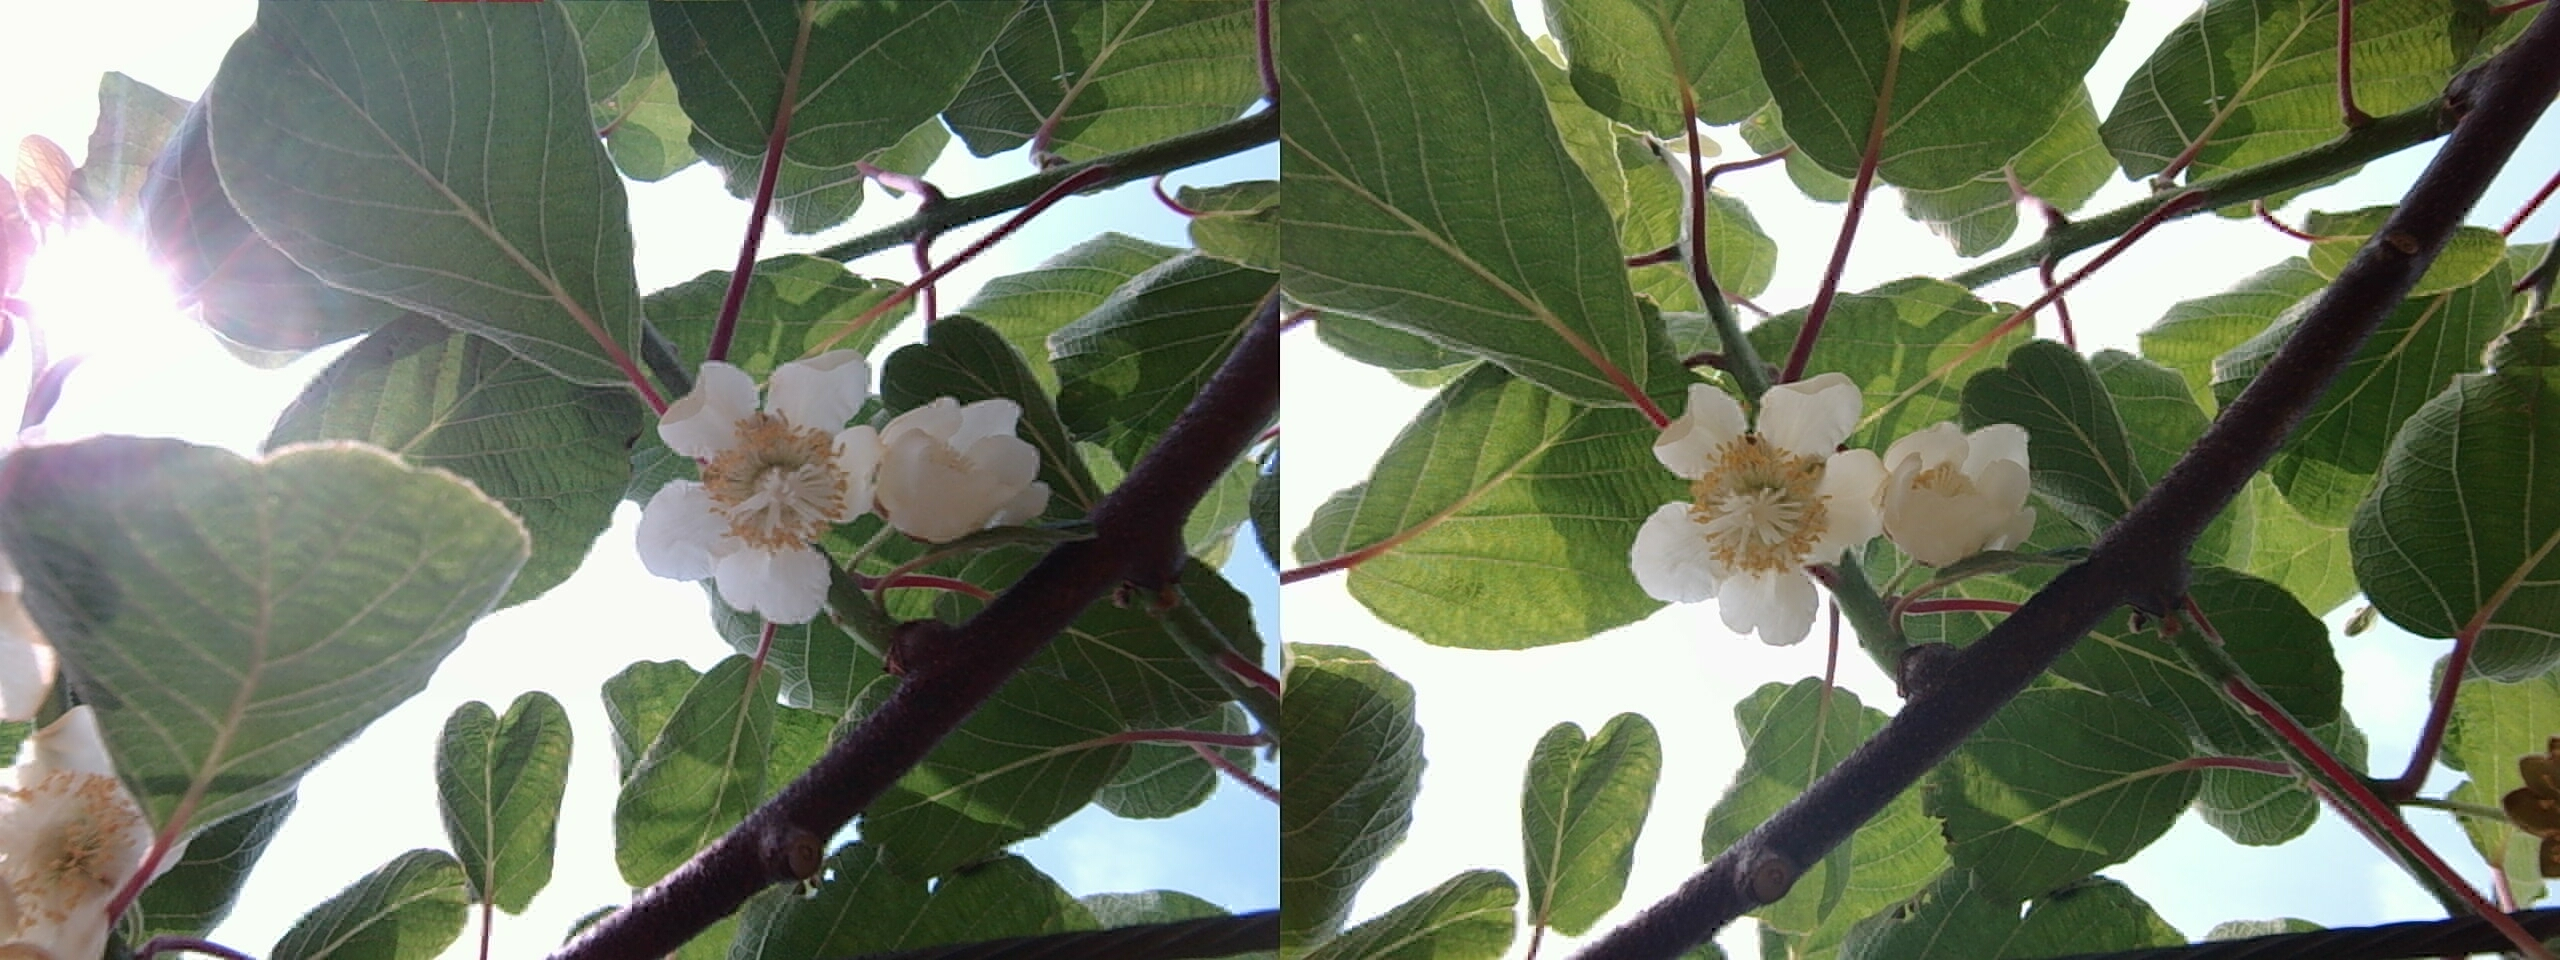flower: (1629, 372, 1878, 635), (638, 353, 870, 620), (8, 718, 149, 945), (1873, 418, 2026, 558)
